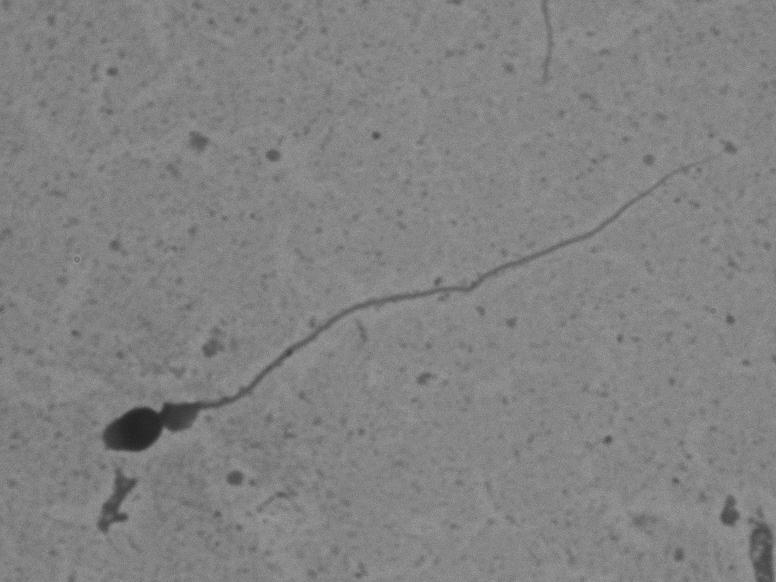Abnormal: (79, 121, 740, 469)
